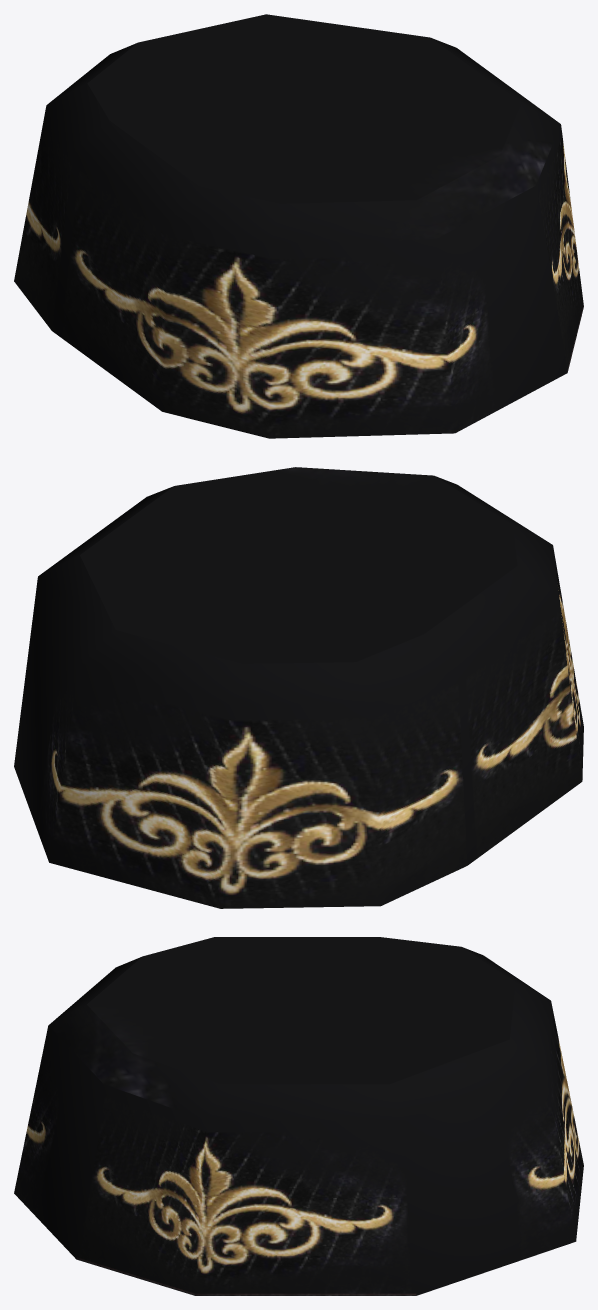
The model's file is tubeteika.FBX.
The picture shows the model from 3 angles, top to bottom: view 1: azimuth 30°, elevation 25°; view 2: azimuth 150°, elevation 25°; view 3: azimuth 270°, elevation 25°; orthographic projection. The views are drawn at different scales.
Visible parts, largest first — view 1: tubeteika; view 2: tubeteika; view 3: tubeteika.
Boxes of the visible parts, x1,y1,x2,y2 form: tubeteika: (14,14,583,438); tubeteika: (14,467,583,908); tubeteika: (14,937,583,1295).
Bounding box in the file's own units: 17.73 × 8.16 × 22.26.
